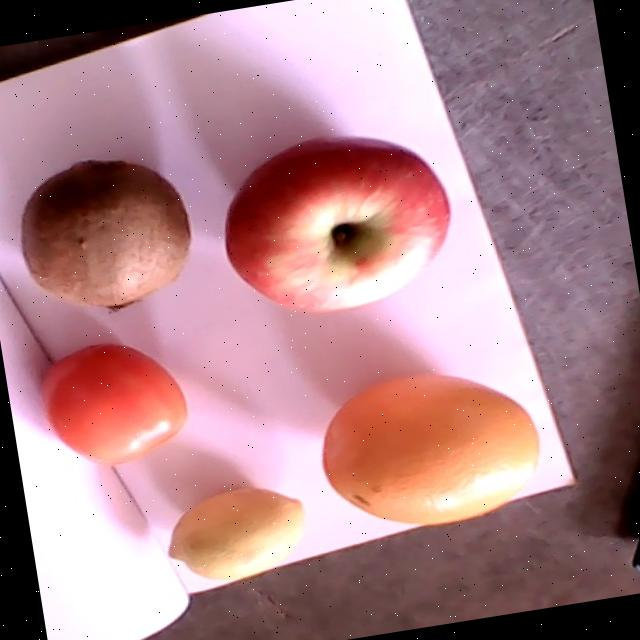apple: (221, 134, 452, 314)
kiwi: (19, 159, 191, 311)
lemon: (166, 488, 306, 581)
orange: (321, 374, 540, 526)
tomato: (40, 342, 188, 467)
